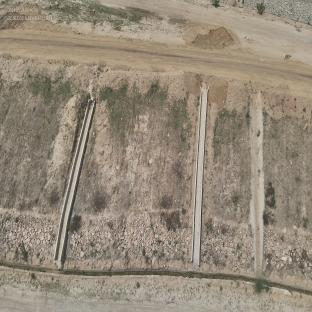rock_toe: (69, 218, 189, 266), (0, 209, 59, 259), (202, 221, 252, 272), (265, 232, 311, 280)
slope_drain: (54, 98, 94, 265), (191, 87, 209, 269), (250, 89, 264, 273)
toe_drain: (0, 261, 312, 295)
